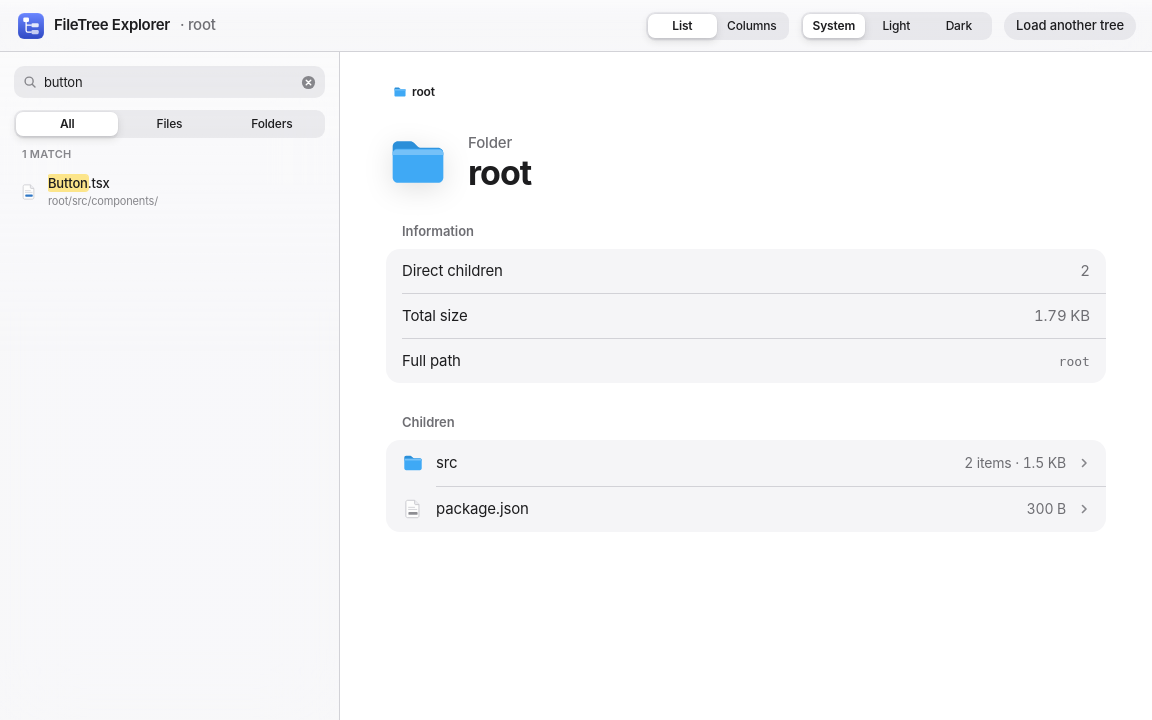
it: searching by name › opens the details of a result and keeps the results visible
Click the link with aria-label "root/src/components/Button.tsx". click: (89, 192)
box: [20, 175, 158, 208]
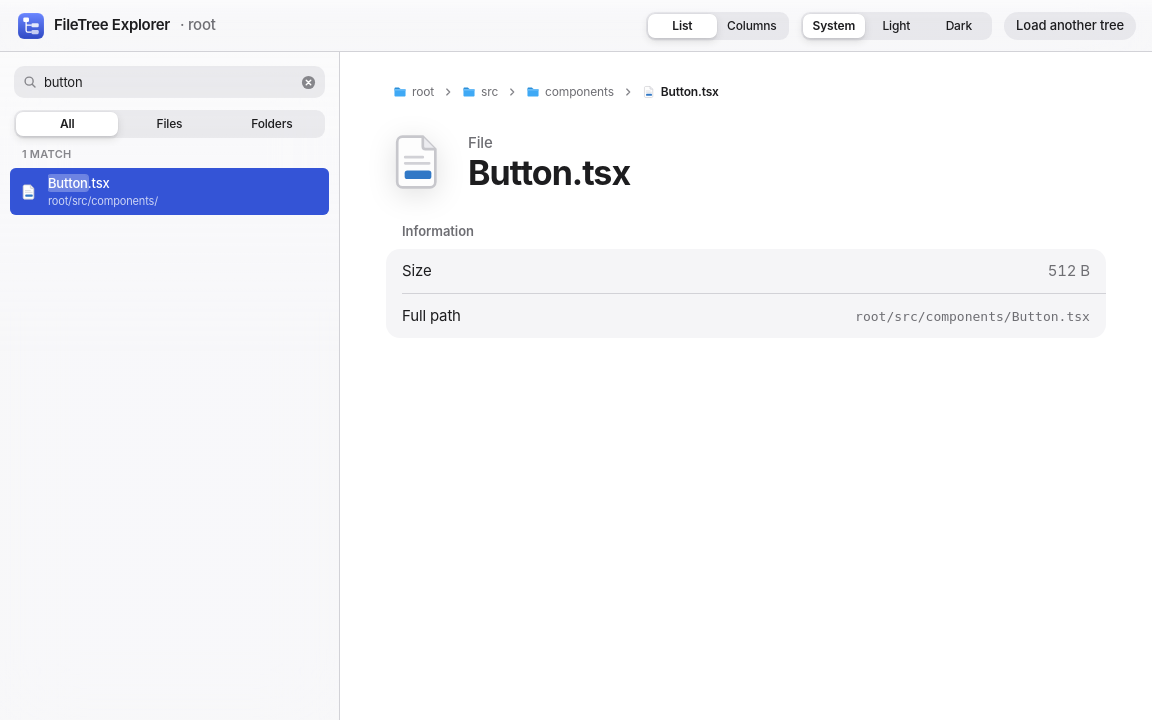
Expected: the heading "Button.tsx" is shown, [468, 154, 630, 192]
